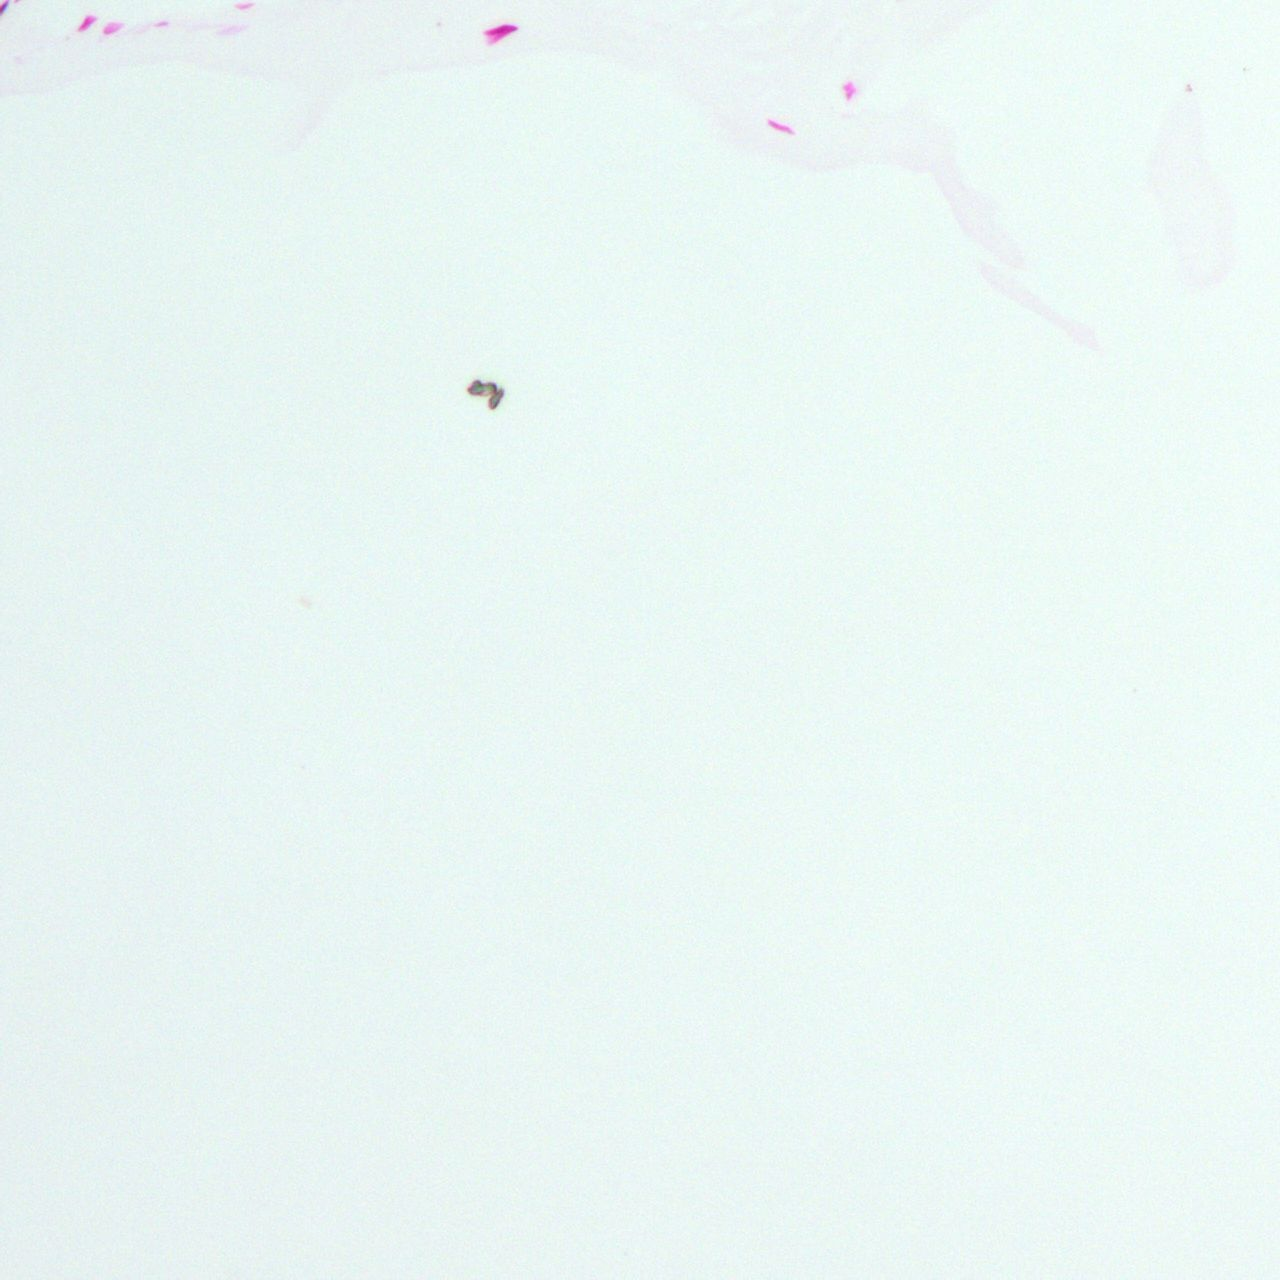dust: (467, 377, 504, 408)
